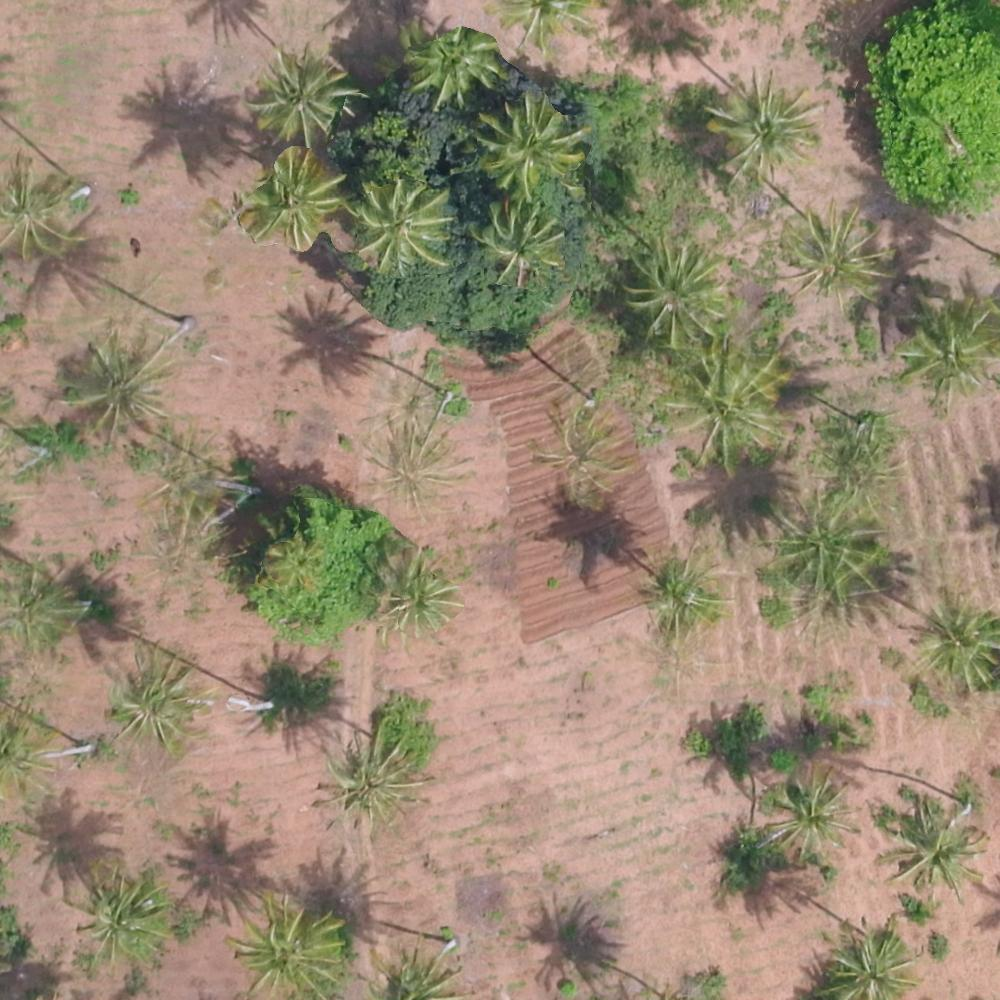Palm: (239, 894, 346, 996), (784, 201, 888, 305), (710, 74, 813, 179), (624, 239, 724, 344), (675, 361, 774, 462), (314, 730, 414, 827), (71, 339, 173, 434), (351, 179, 449, 273), (888, 801, 983, 895), (481, 99, 573, 195), (532, 414, 621, 509), (79, 872, 170, 960), (913, 599, 998, 693), (244, 157, 333, 245), (1, 169, 82, 264), (255, 52, 341, 139), (477, 206, 565, 291), (900, 316, 988, 400), (113, 659, 197, 747), (408, 25, 497, 107), (4, 560, 86, 649), (772, 769, 853, 857), (371, 425, 457, 507), (373, 557, 458, 638), (640, 558, 721, 636), (822, 929, 913, 998)
